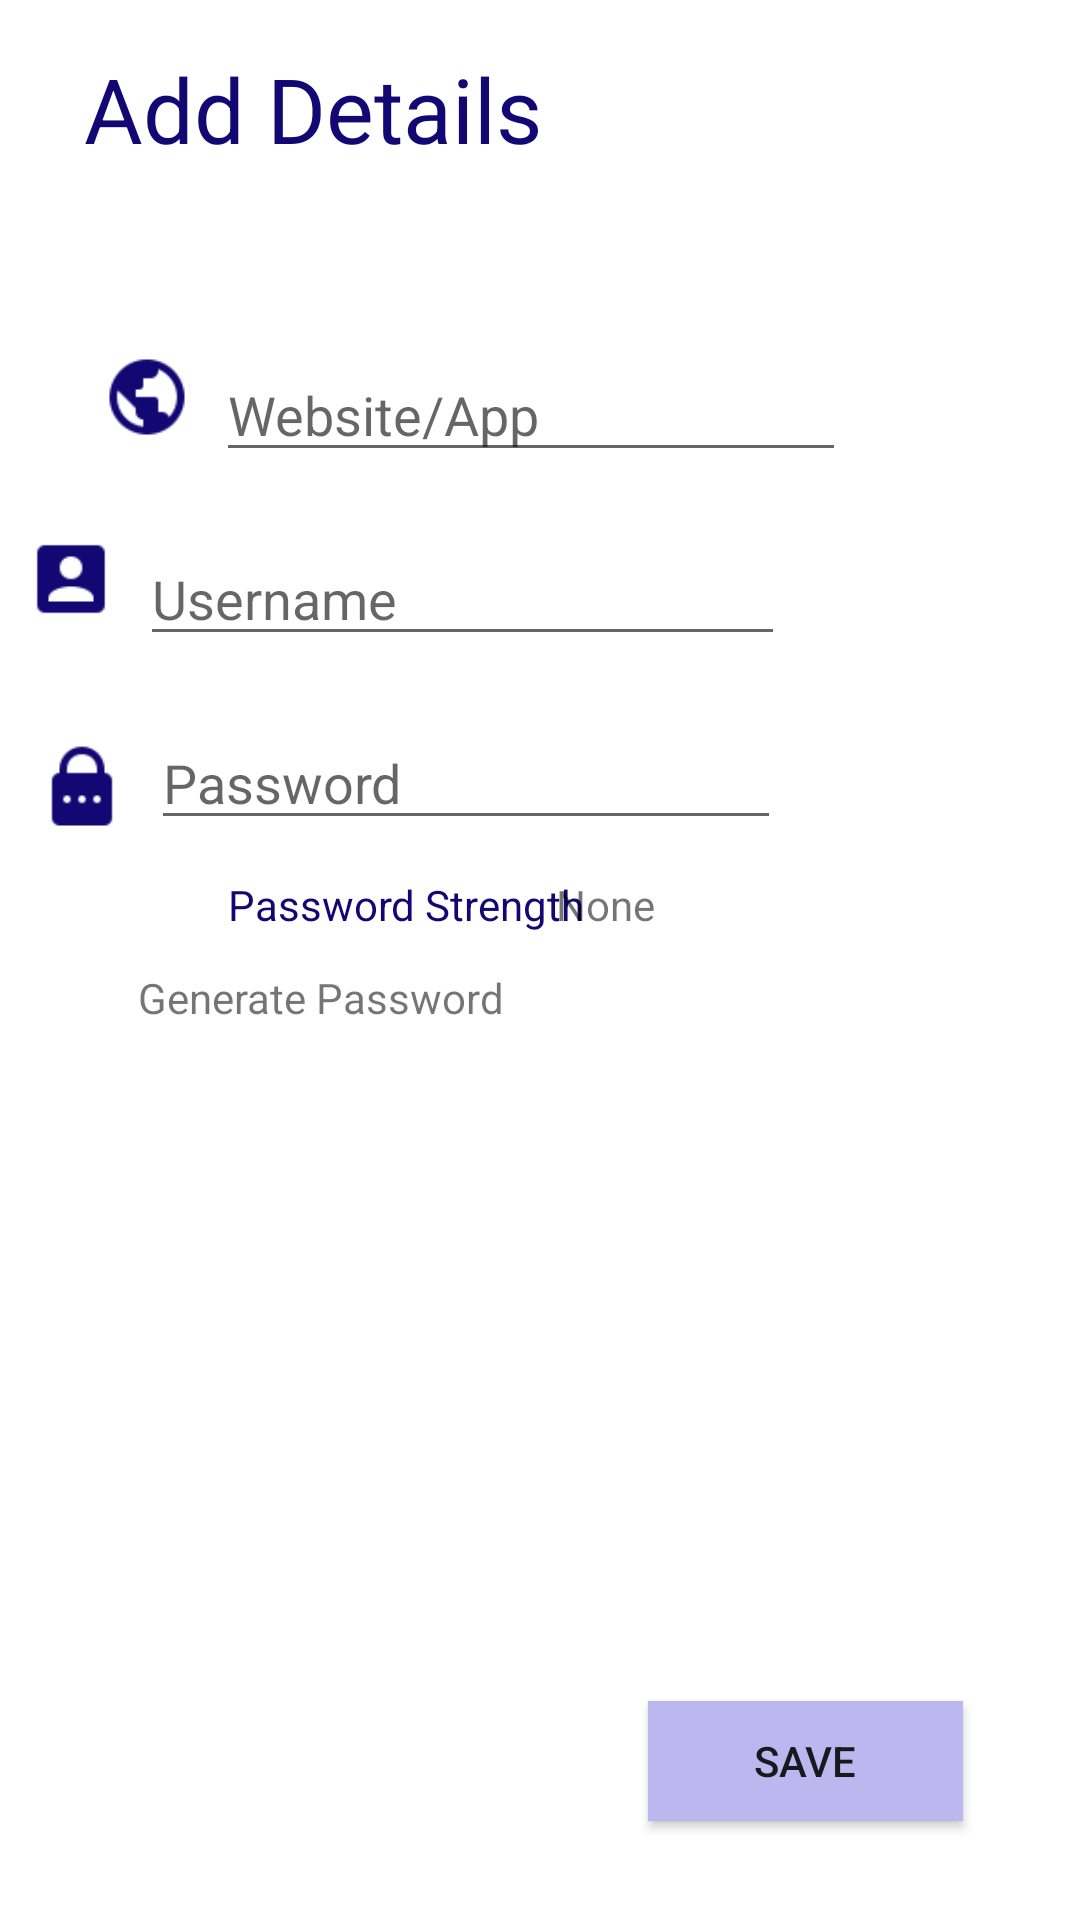

Icons on this 1080×1920 Android screen, each with its box as (x1, y1, x2, y2):
globe: (109, 359, 185, 435)
